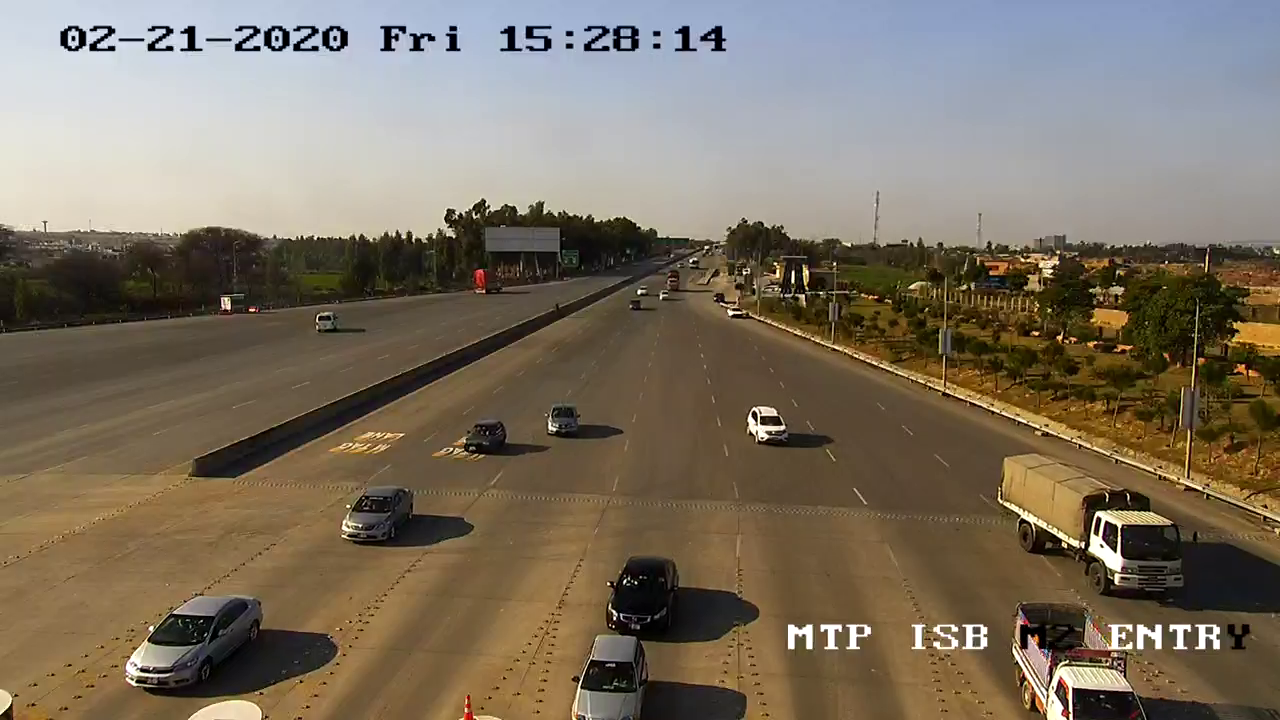f1: (103, 575, 281, 707), (563, 618, 662, 720), (328, 466, 432, 554), (740, 393, 797, 460), (542, 396, 591, 443)
f5: (977, 438, 1208, 617)
